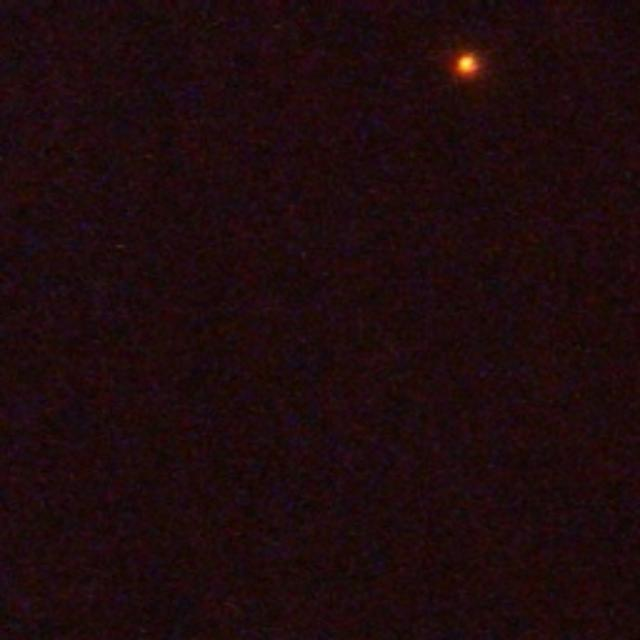microbeads: (456, 52, 486, 78)
